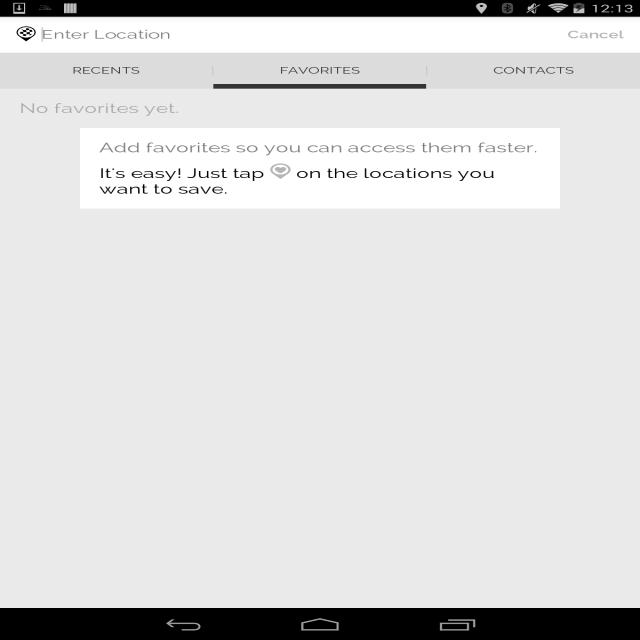Button: (5, 56, 59, 89), (5, 280, 59, 313), (5, 314, 59, 347)
EditText: (41, 23, 552, 46)
ImageView: (192, 575, 277, 609), (21, 75, 58, 98), (5, 23, 42, 46)
TextView: (53, 89, 640, 122), (68, 23, 571, 57), (68, 81, 571, 103), (68, 70, 571, 81), (220, 20, 302, 49), (556, 20, 634, 49), (0, 16, 59, 52), (581, 16, 640, 52), (0, 88, 53, 122), (105, 20, 162, 49), (262, 28, 378, 41), (540, 120, 619, 138), (528, 538, 567, 565), (567, 538, 602, 565), (279, 65, 360, 76), (493, 65, 574, 76), (5, 23, 42, 46), (178, 23, 215, 46), (63, 23, 99, 46), (72, 65, 140, 76), (373, 596, 438, 604), (202, 596, 266, 604), (288, 596, 352, 604), (224, 579, 245, 596), (522, 120, 540, 138), (310, 579, 329, 596), (396, 579, 414, 596), (602, 538, 610, 561)
